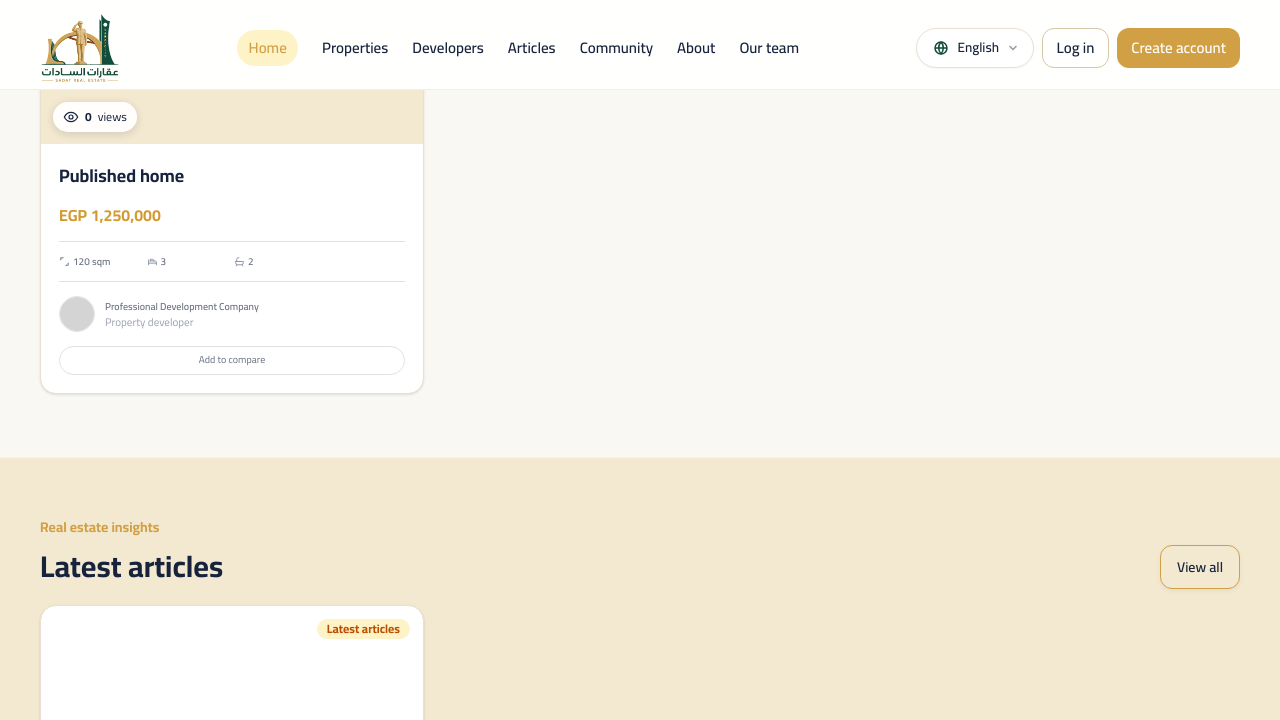
public homepage › shows the comparison action on the homepage as soon as a property is selected
This screenshot has width=1280, height=720.
(page scrolled)
What coordinates should you click on to do the following:
click the button "Add to compare"
I would click on:
 (232, 360)
Its box is [59,346,405,375].
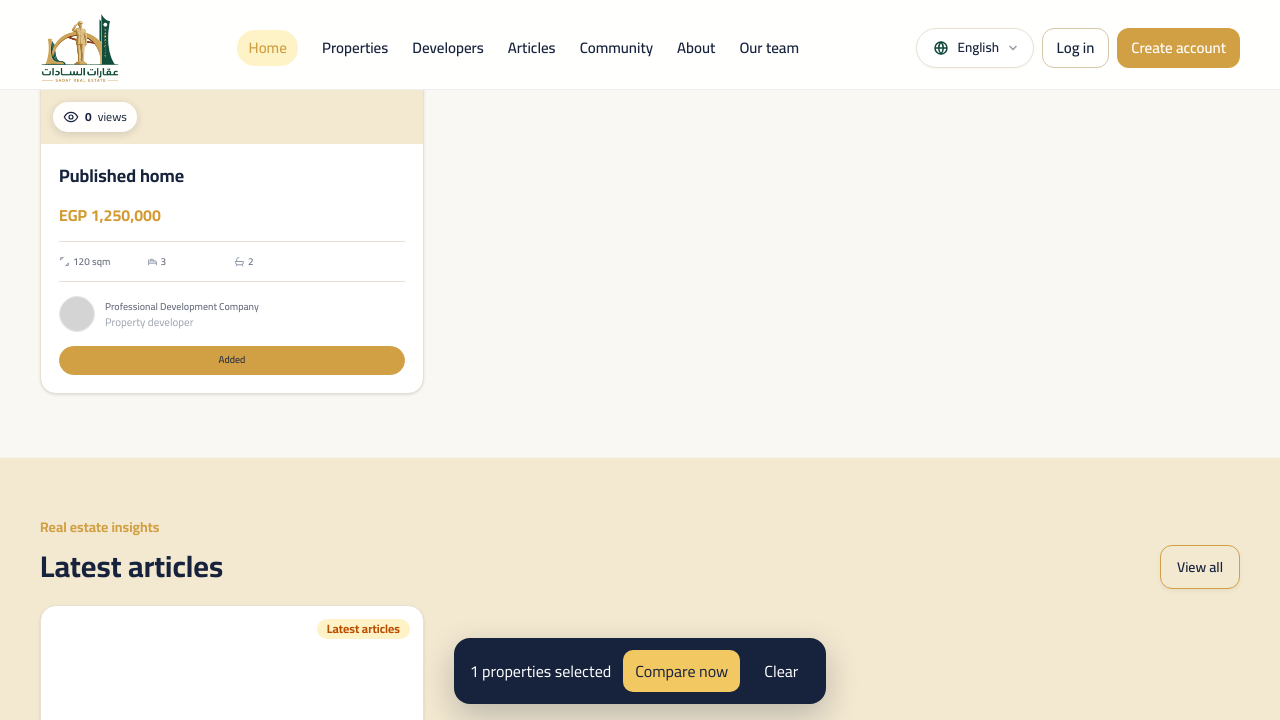
Now the text "1 properties selected" is shown, box [470,656,611,686]
What coordinates should you click on to do the following:
click the button "Clear"
I would click on:
 (781, 671)
Its box is [752,650,810,692].
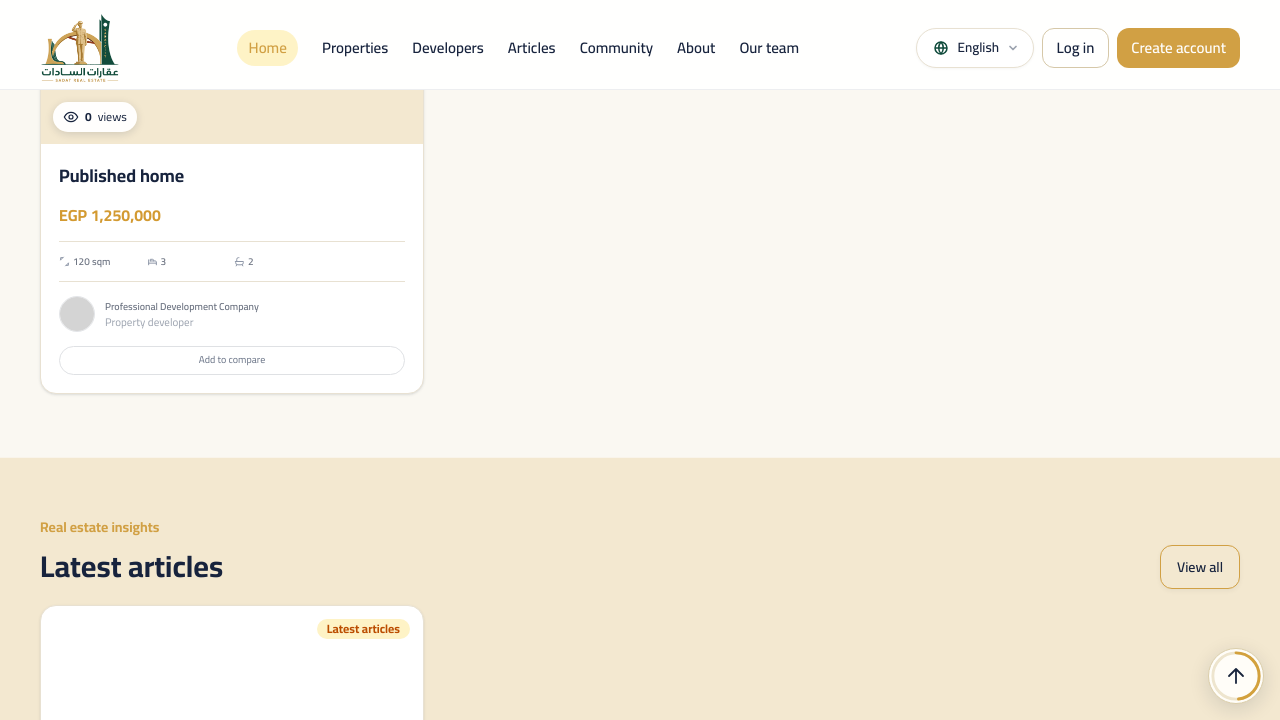
Now the link "Compare now" is gone
